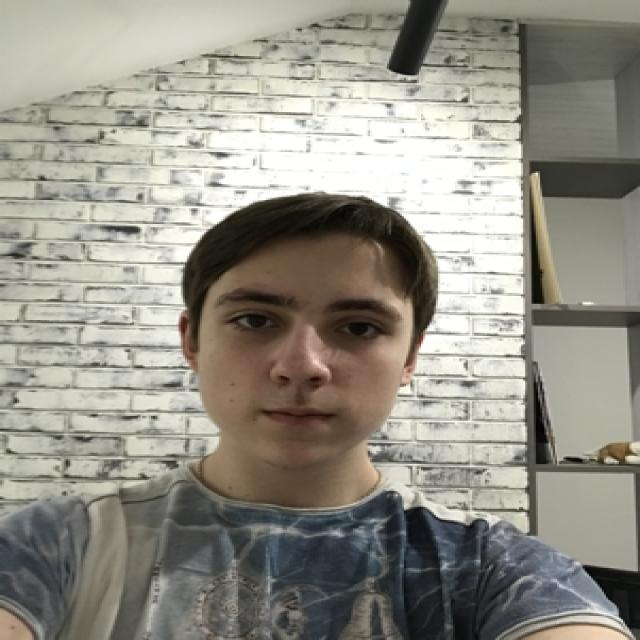without_mask: (198, 278, 414, 466)
